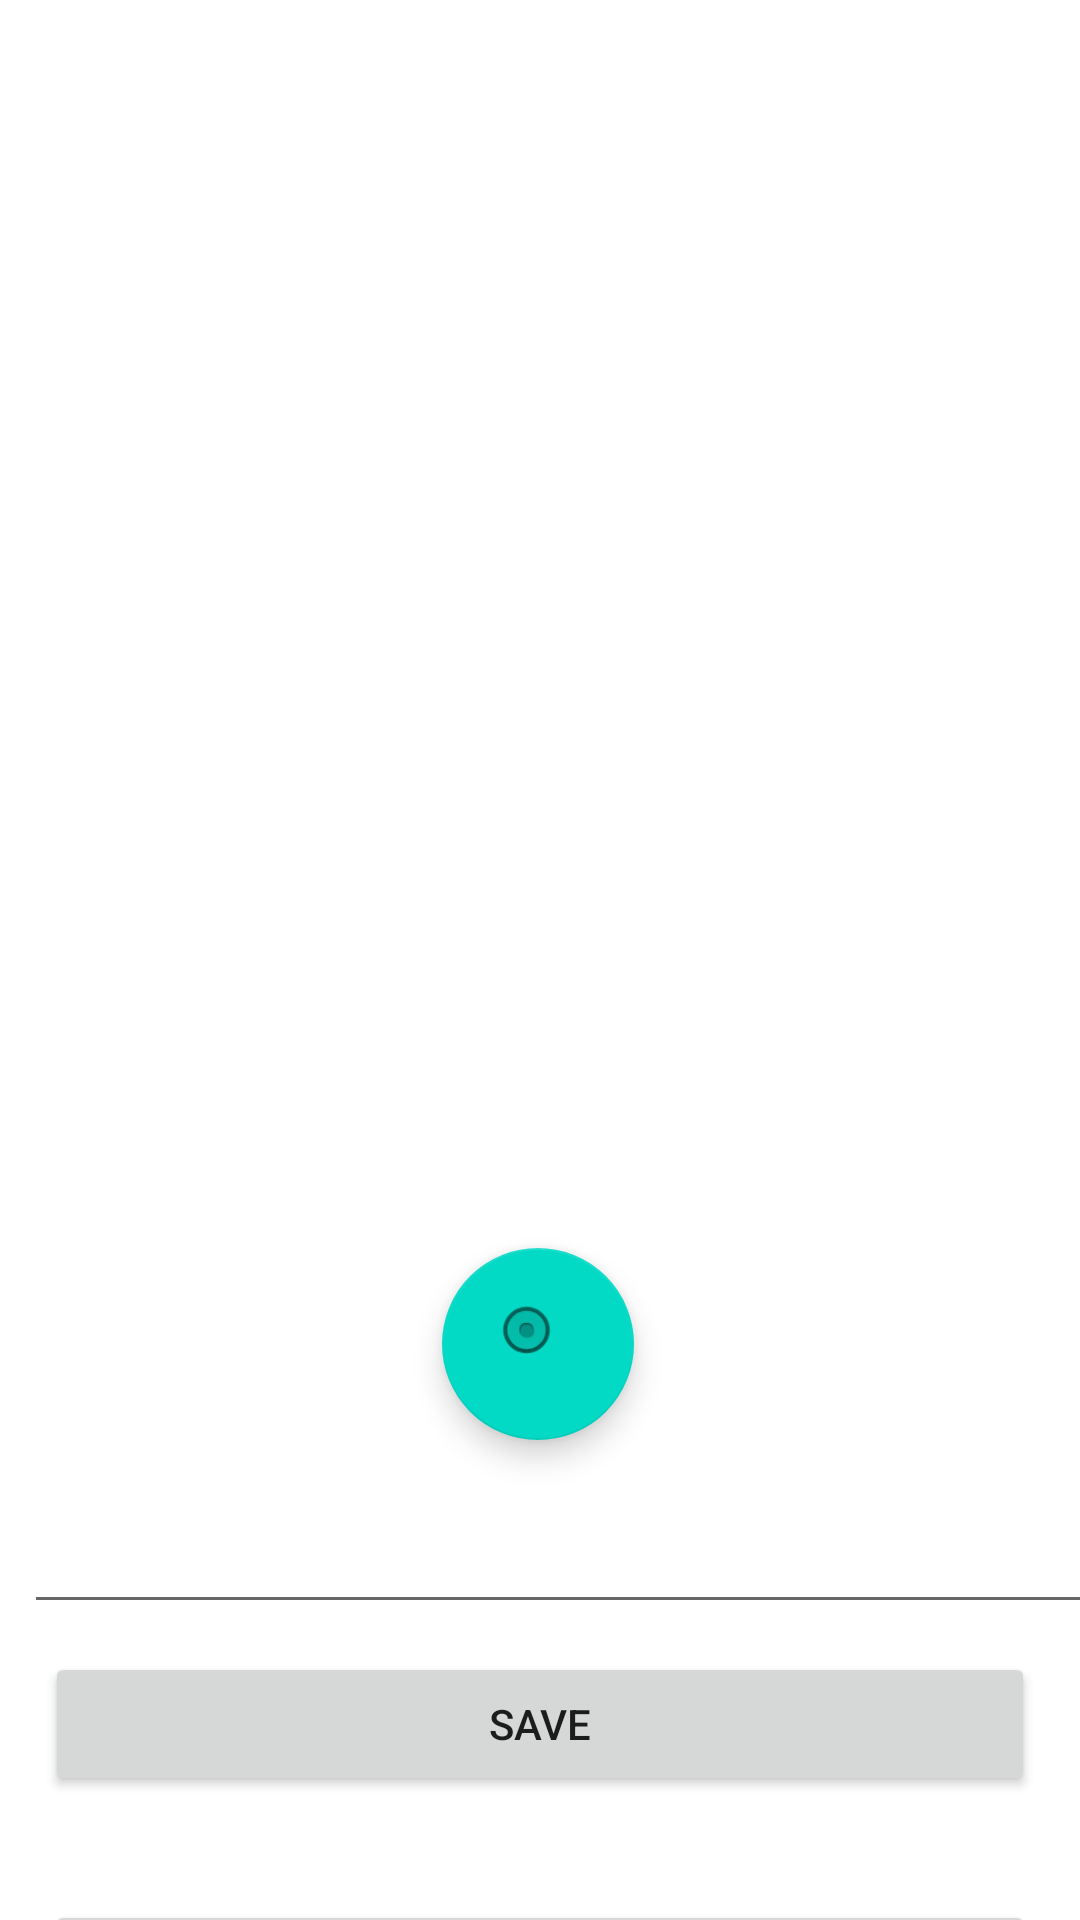

Icons on this 1080px×1920px Android screen, each with its box as (x1, y1, x2, y2):
radio: (442, 1248, 634, 1440)
